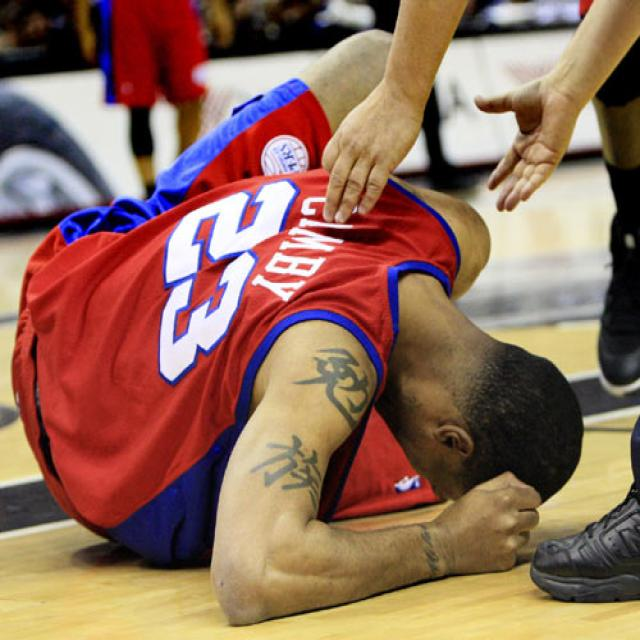fall: (42, 115, 560, 572)
